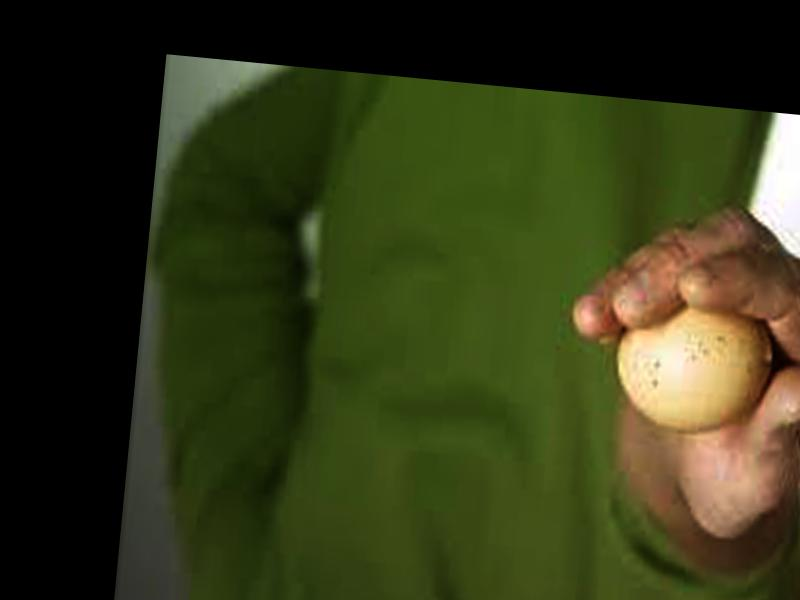Eggs: (610, 298, 776, 437)
